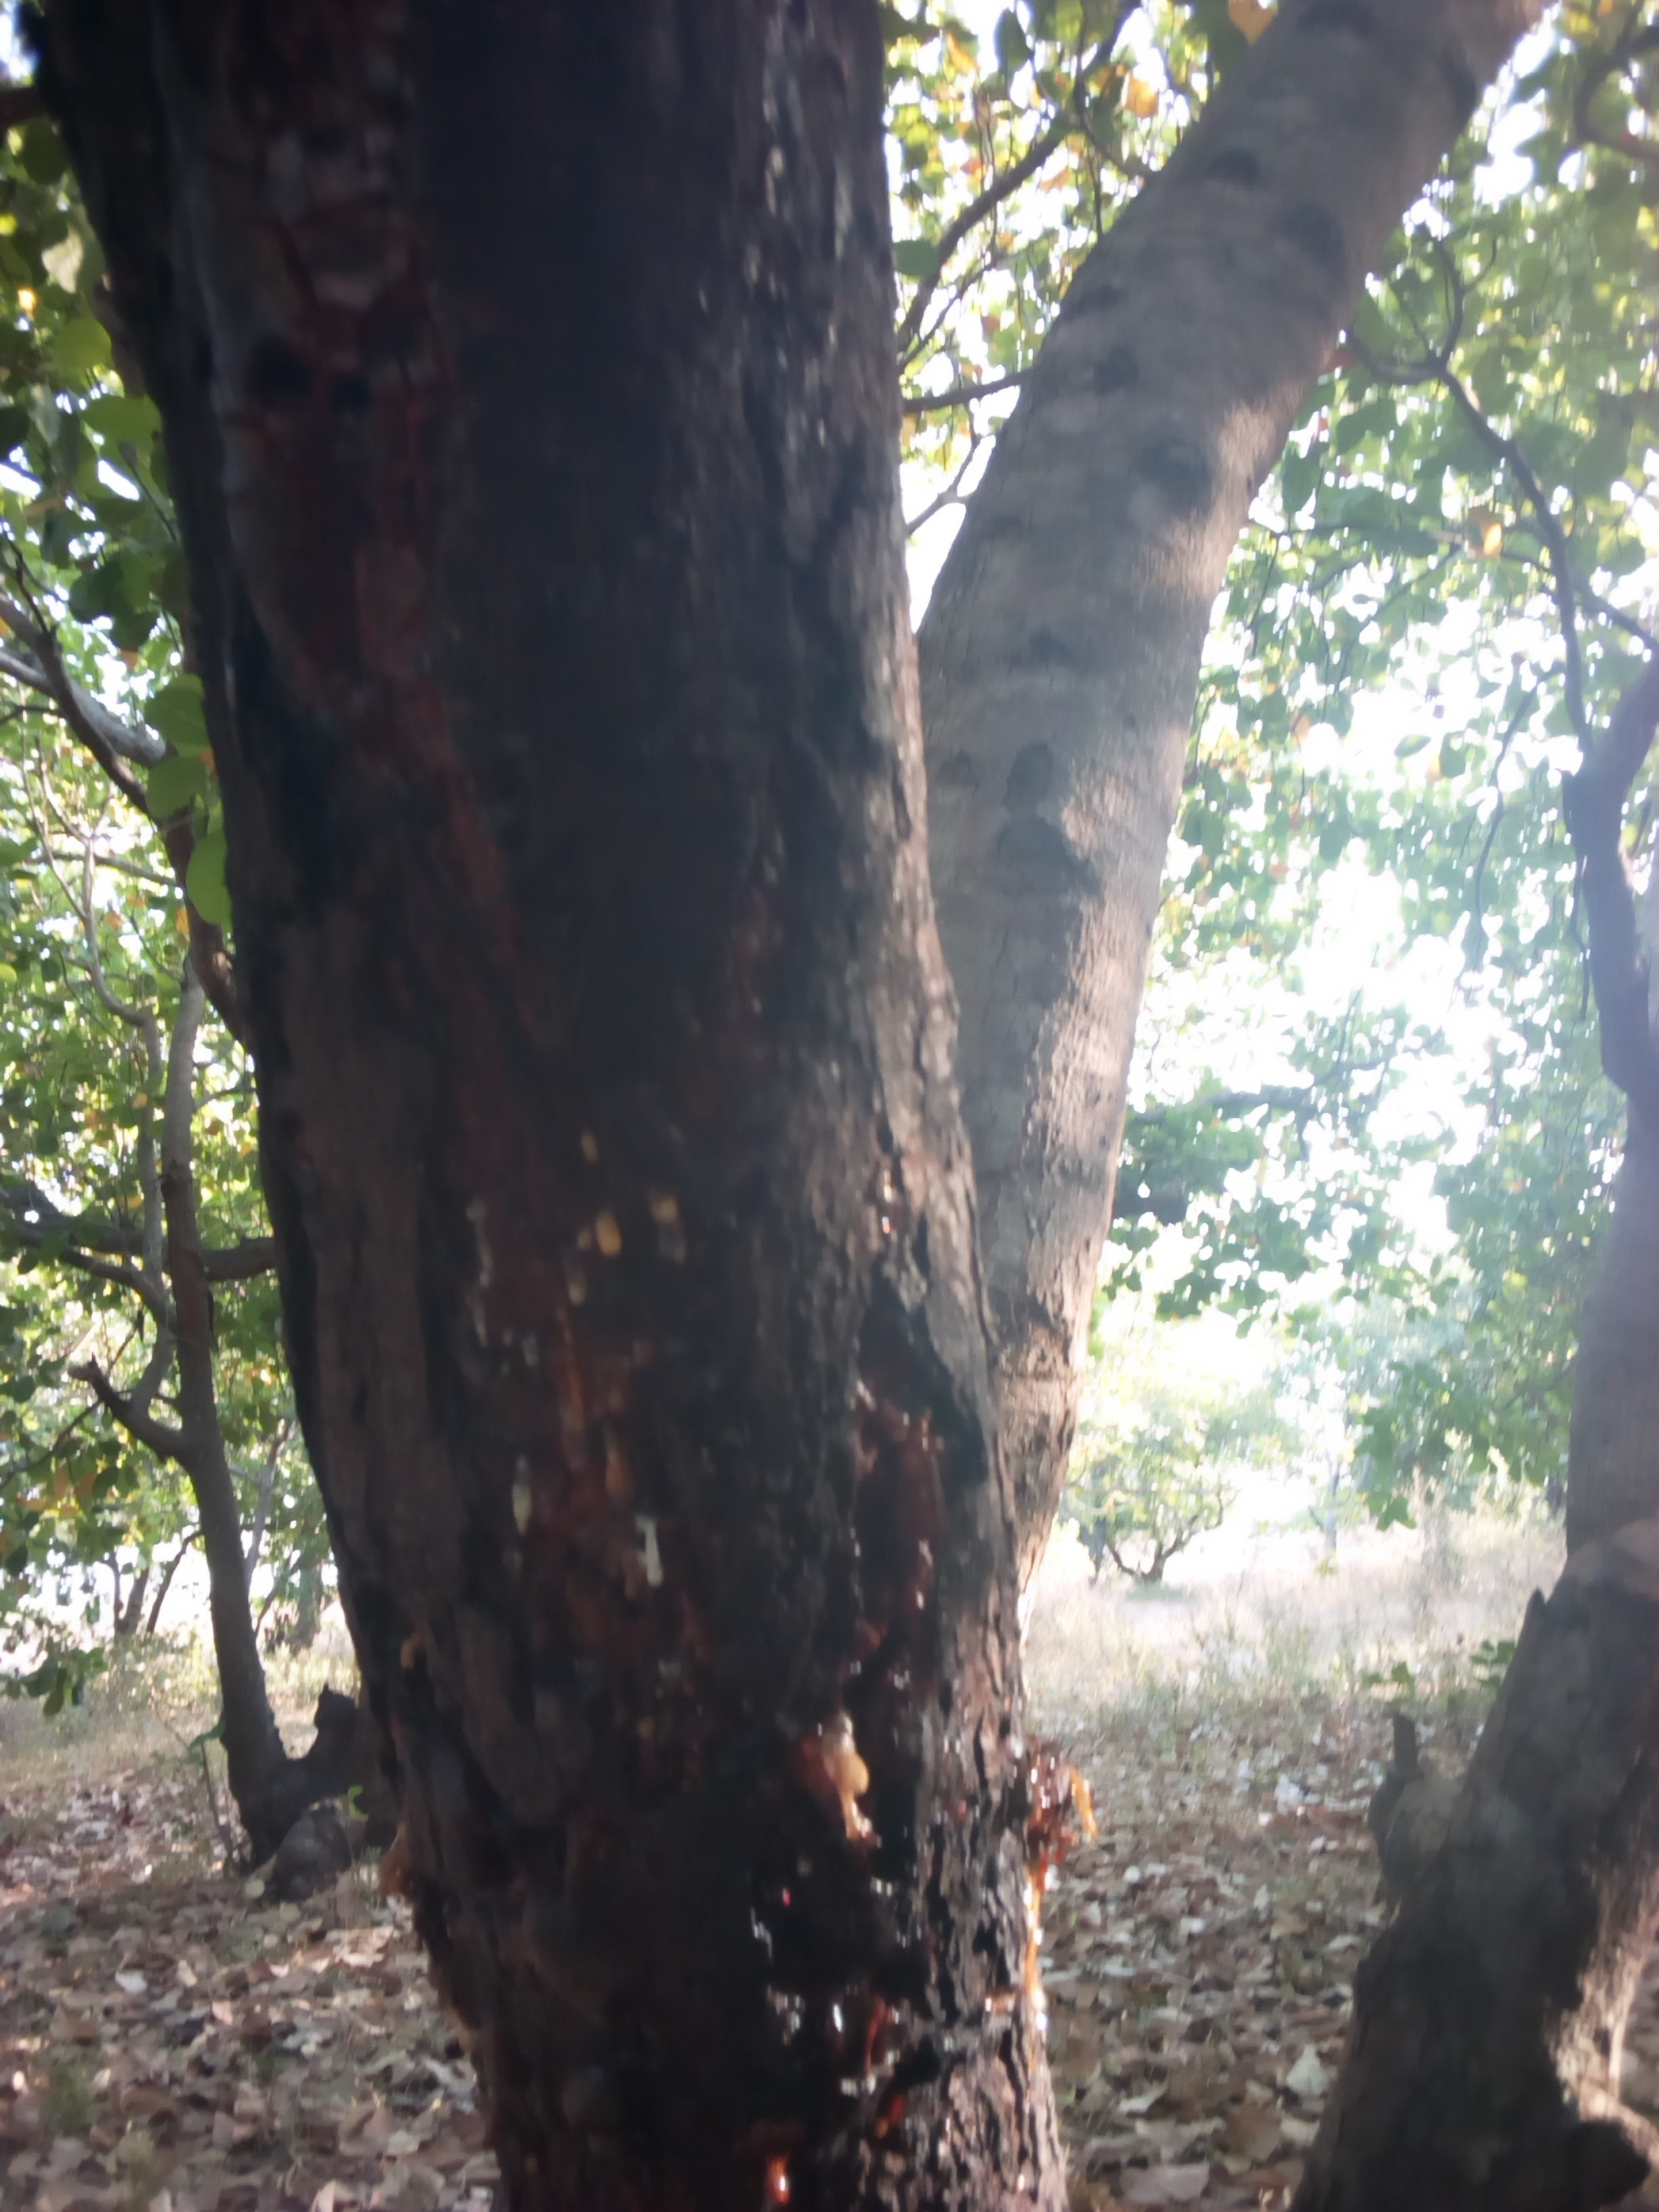Gommose: (166, 19, 1066, 2193)
